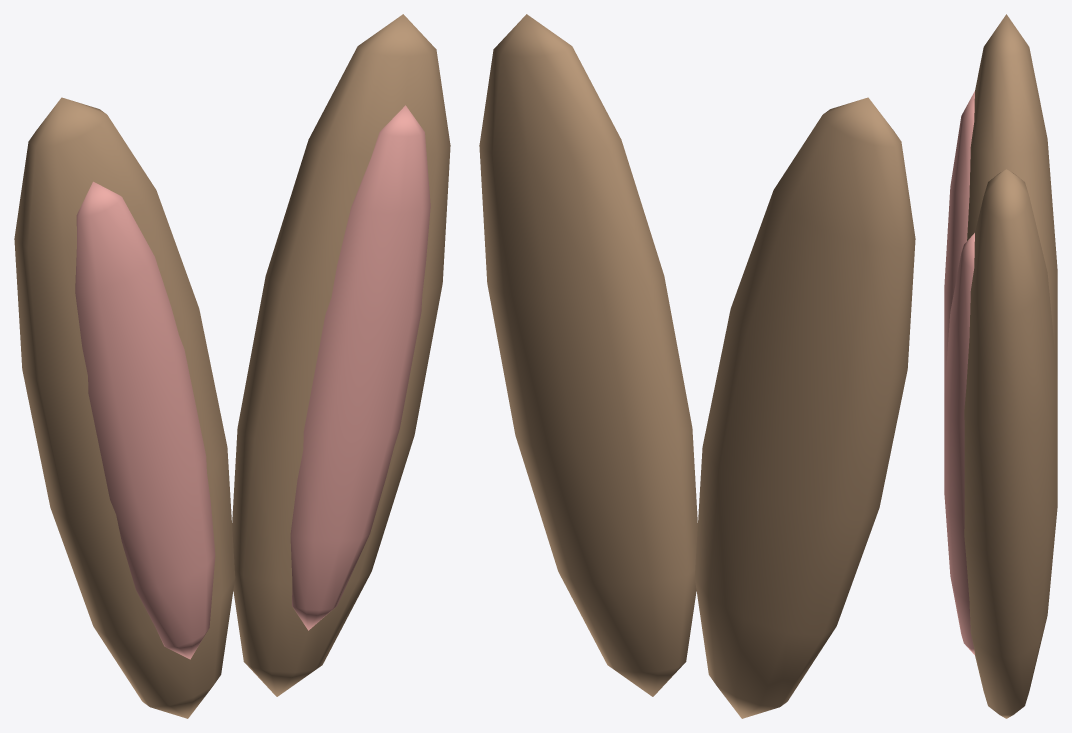
The model's file is Rabbit_Ears.fbx.
The picture shows the model from 3 angles, left to right: view 1: azimuth 30°, elevation 25°; view 2: azimuth 150°, elevation 25°; view 3: azimuth 270°, elevation 25°; orthographic projection. The views are drawn at different scales.
Visible parts, largest first — view 1: Rabbit_Ears_EXP; view 2: Rabbit_Ears_EXP; view 3: Rabbit_Ears_EXP.
Boxes of the visible parts, bbox=[...] form: Rabbit_Ears_EXP: bbox=[14, 14, 450, 718]; Rabbit_Ears_EXP: bbox=[479, 14, 915, 718]; Rabbit_Ears_EXP: bbox=[944, 14, 1057, 718].
Size of the model in its own units: 0.0863 by 0.1274 by 0.0216.
